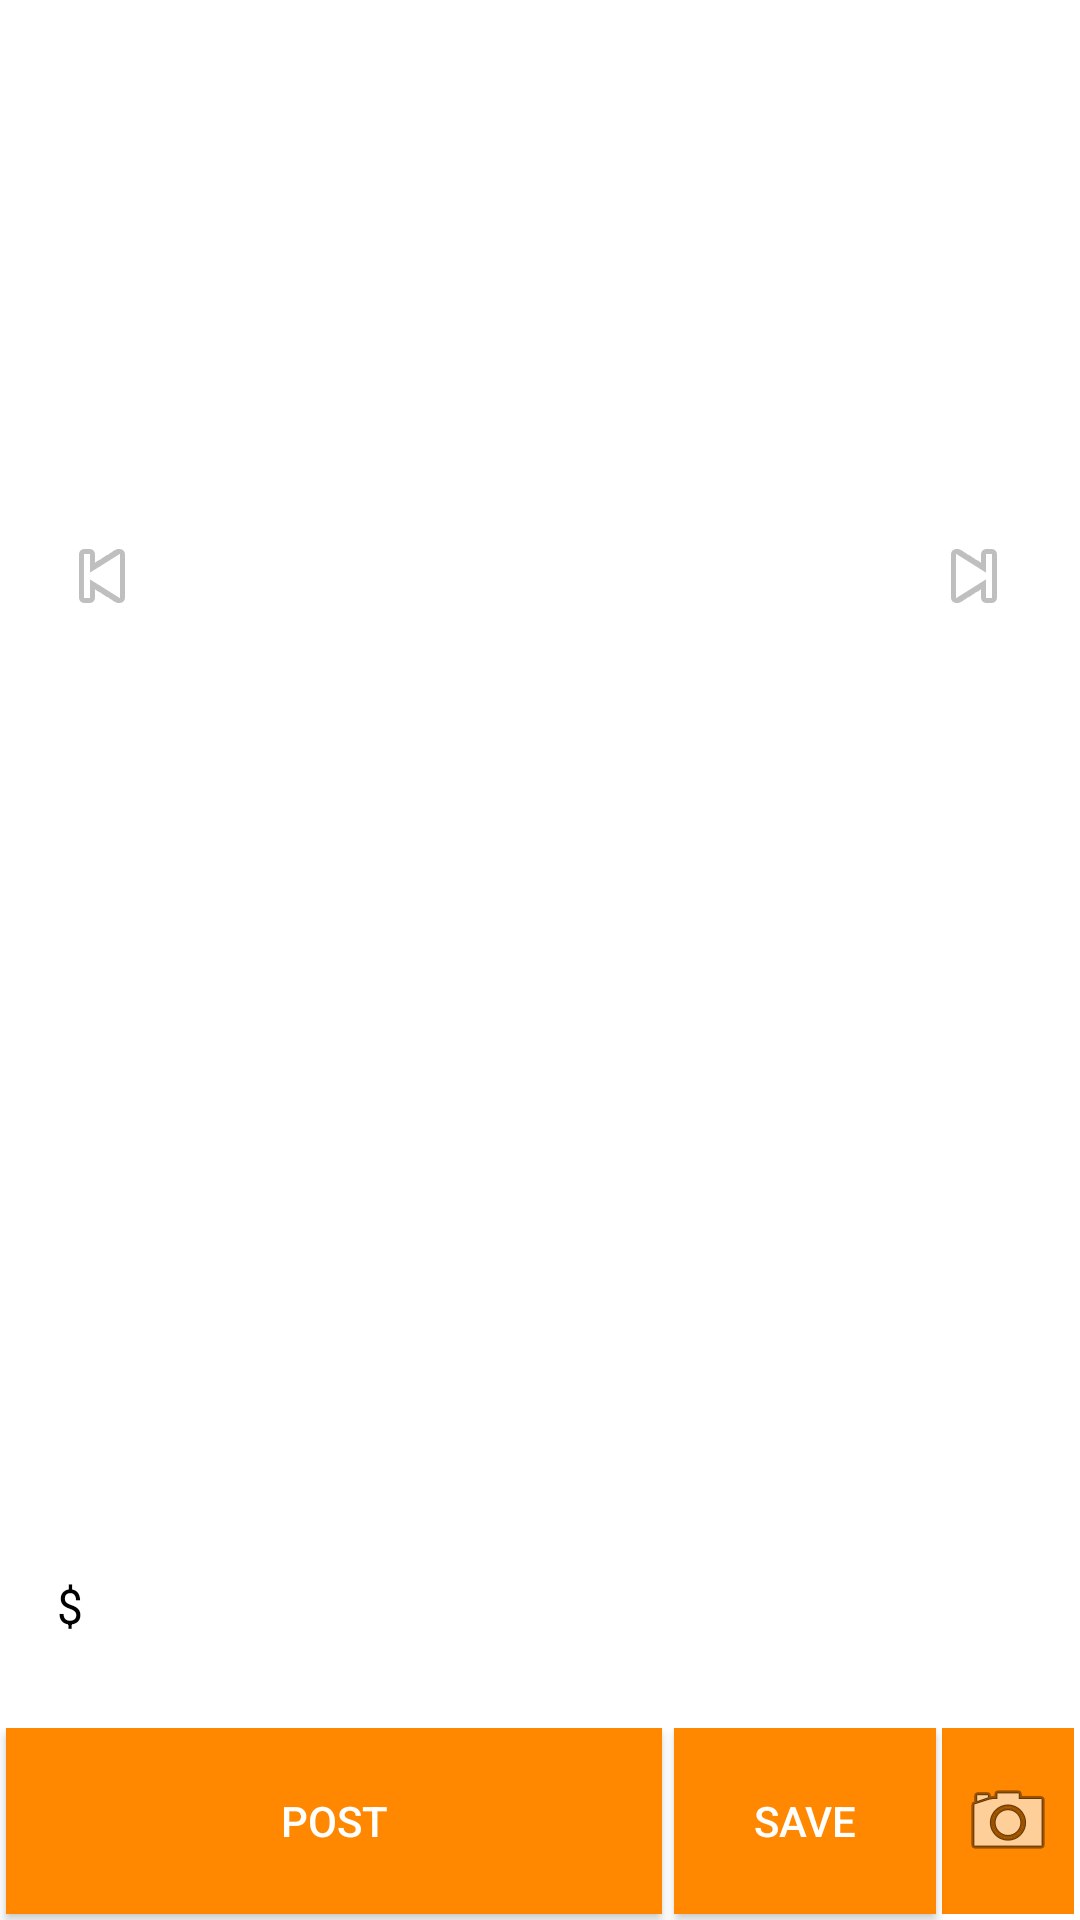

Named icons in this screenshot (1080 × 1920) and their centers, (x=x, y=y):
next: (x=974, y=576)
previous: (x=102, y=576)
